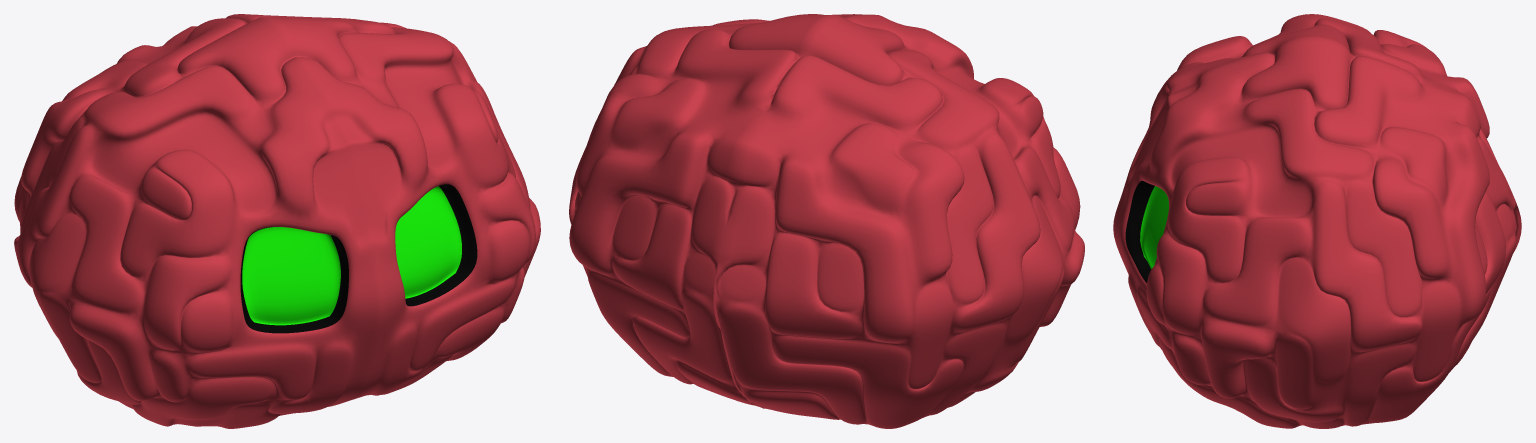
Rendered from brainEnemySmall555.fbx.
3 renders of one model, left to right at view 1: azimuth 30°, elevation 25°; view 2: azimuth 150°, elevation 25°; view 3: azimuth 270°, elevation 25°, orthographic. The views are drawn at different scales.
Parts seen in each view (by area): view 1: Cube; view 2: Cube; view 3: Cube.
Part boxes in pixels (left/top/right/bottom): Cube: left=14, top=14, right=540, bottom=428; Cube: left=569, top=14, right=1084, bottom=428; Cube: left=1113, top=14, right=1521, bottom=428.
Bounding box in the file's own units: 2.87 × 2.05 × 2.3.
